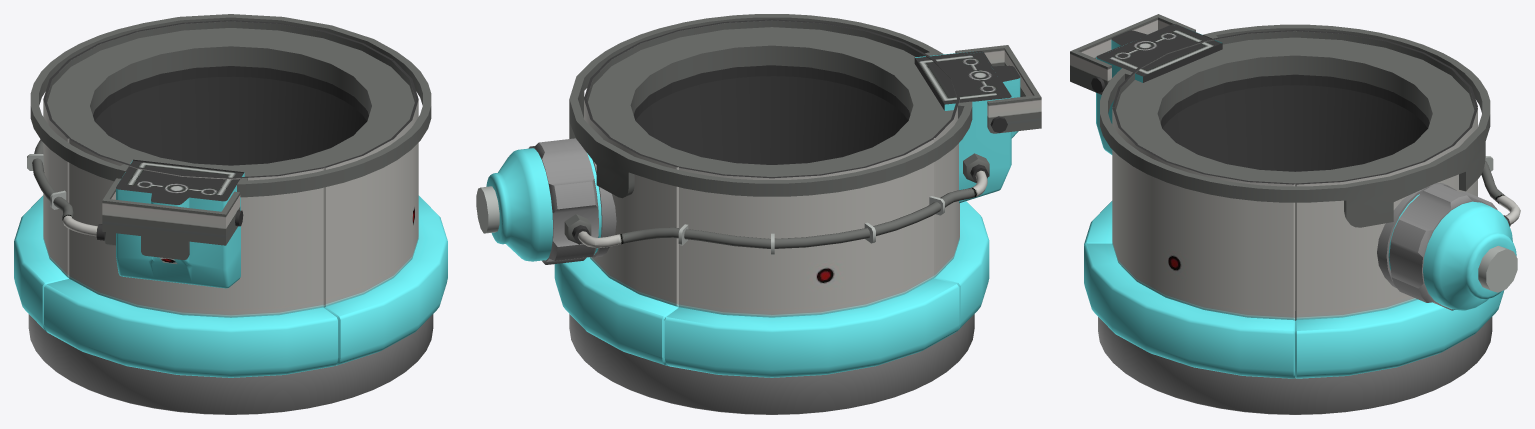
The model's file is gel_clear.glb.
3 renders of one model, left to right at view 1: azimuth 30°, elevation 25°; view 2: azimuth 150°, elevation 25°; view 3: azimuth 270°, elevation 25°, orthographic. The views are drawn at different scales.
Parts seen in each view (by area): view 1: EDITOR_paint_dropper.004; view 2: EDITOR_paint_dropper.004; view 3: EDITOR_paint_dropper.004.
Part boxes in pixels (<box>): EDITOR_paint_dropper.004: <box>14,14,447,414</box>; EDITOR_paint_dropper.004: <box>476,14,1041,414</box>; EDITOR_paint_dropper.004: <box>1070,14,1520,414</box>.
Size of the model in its own units: 1.52 by 0.894 by 1.54.
1 material, 1 textured.
